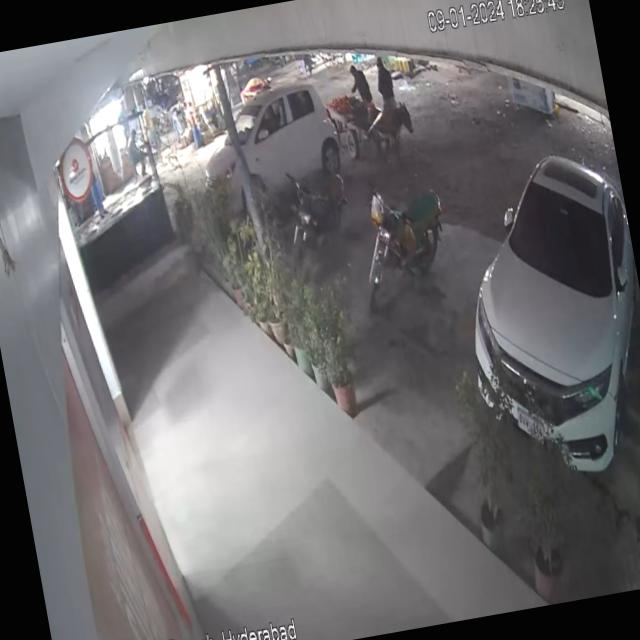Car: (430, 100, 640, 501), (168, 64, 350, 209)
Motorcycle: (342, 174, 469, 304), (278, 152, 358, 268)
